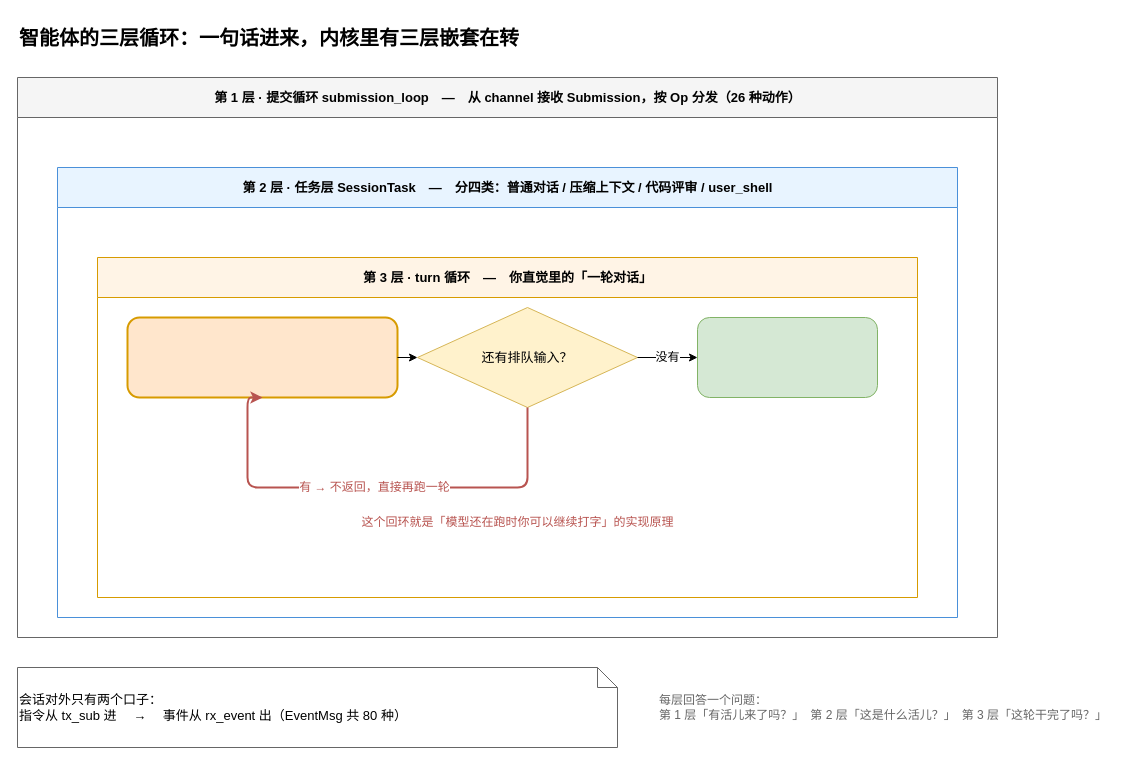
Some shapes in this 1125 by 765 pixel diagram are drawn without their labels. The centre of each missing label's shape, as x and y in pixels:
"run_turn(…) 组上下文 → 调模型 → 用工具 → 写回历史" goes at point (262, 357).
"返回结果 本次任务结束" goes at point (787, 357).
